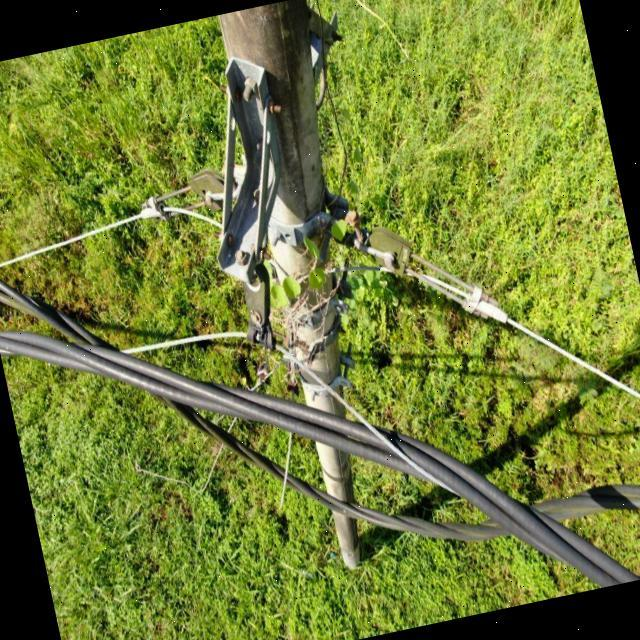critical vegetation: (216, 180, 416, 420)
